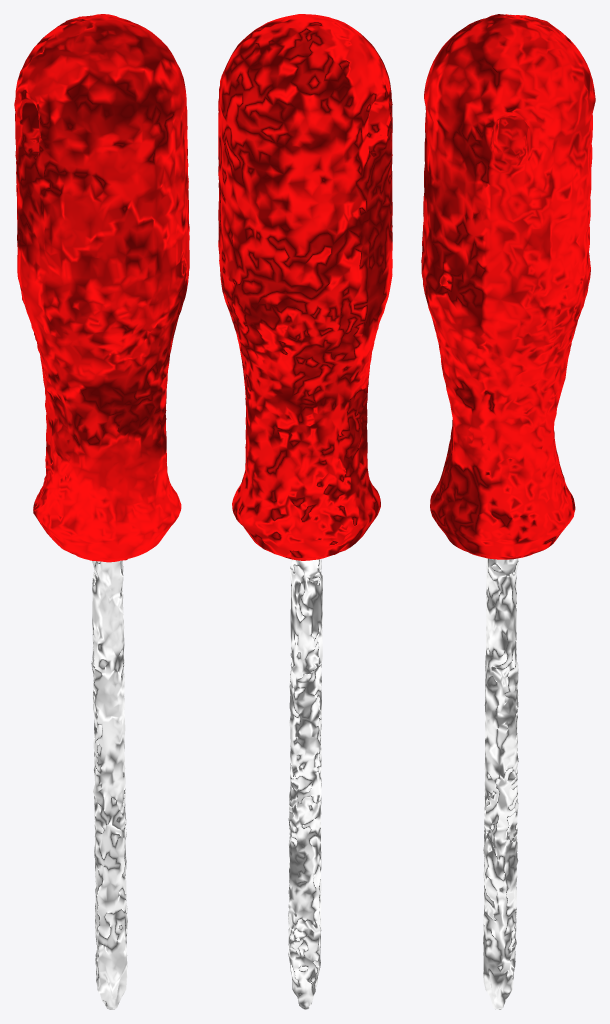
File: screwdriver_up_y.dae
3 views of the same model, side by side, from view 1: azimuth 30°, elevation 25°; view 2: azimuth 150°, elevation 25°; view 3: azimuth 270°, elevation 25° (orthographic).
Visible parts, largest first — view 1: Node_0000001243ADFE20 (×2); view 2: Node_0000001243ADFE20 (×2); view 3: Node_0000001243ADFE20 (×2).
Part boxes in pixels (x1,y1,x2,y2): Node_0000001243ADFE20 (×2): (14, 14, 189, 1009); Node_0000001243ADFE20 (×2): (218, 14, 392, 1009); Node_0000001243ADFE20 (×2): (421, 14, 595, 1009).
Bounding box in the file's own units: 0.0335 × 0.2162 × 0.0346.
